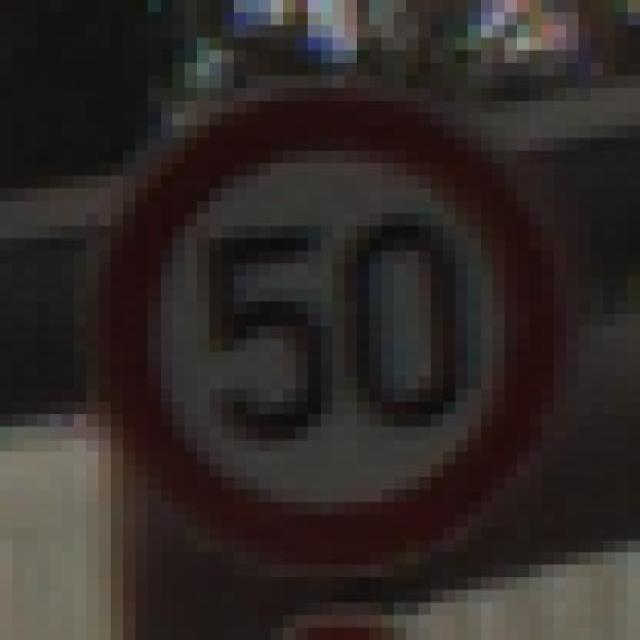50 mph speed limit: (99, 62, 566, 578)
